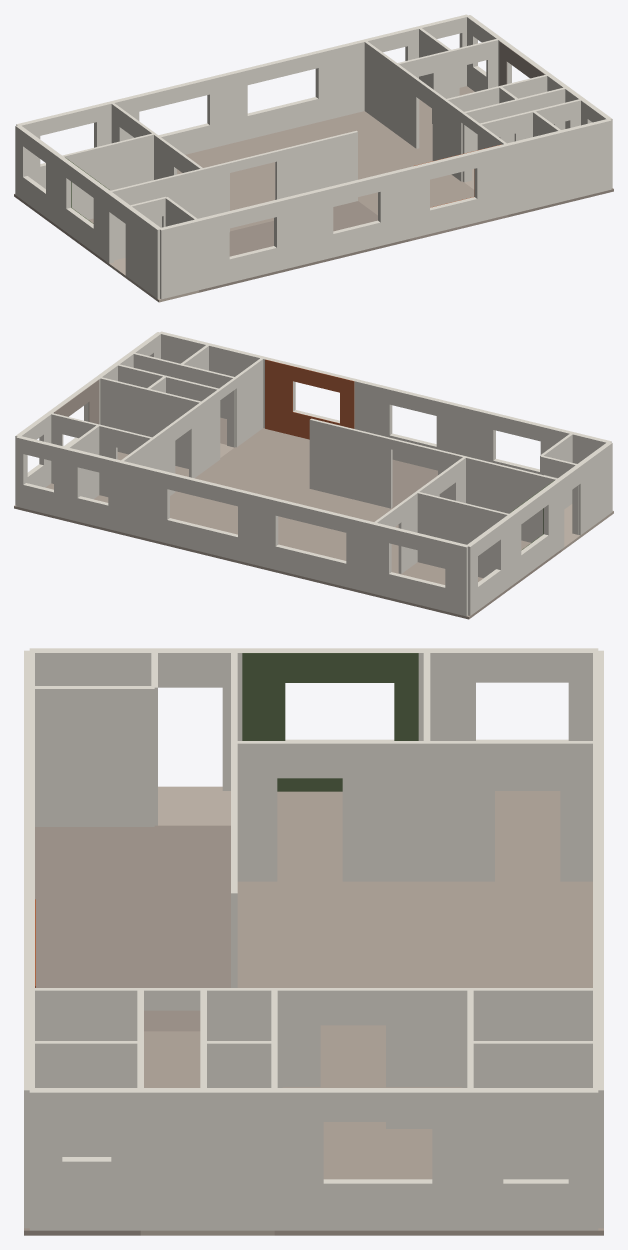
The picture shows the model from 3 angles, top to bottom: view 1: azimuth 30°, elevation 25°; view 2: azimuth 150°, elevation 25°; view 3: azimuth 270°, elevation 25°; orthographic projection. The views are drawn at different scales.
Visible parts, largest first — view 1: oficina_1_estructura; view 2: oficina_1_estructura; view 3: oficina_1_estructura.
Part boxes in pixels (bbox=[...]): oficina_1_estructura: bbox=[14, 14, 613, 302]; oficina_1_estructura: bbox=[14, 331, 613, 619]; oficina_1_estructura: bbox=[24, 648, 603, 1235].
Size of the model in its own units: 19.3 by 10.65 by 2.9.
